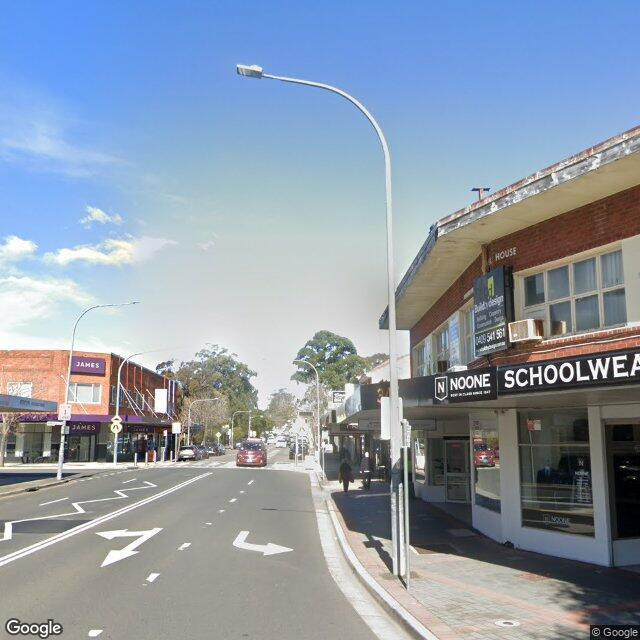steel-pole: (384, 157, 404, 577), (56, 327, 76, 481), (114, 369, 121, 464), (316, 374, 320, 469), (188, 402, 194, 445), (231, 414, 234, 450)
streetlight: (237, 63, 391, 158), (73, 301, 141, 327), (118, 352, 144, 369), (288, 360, 318, 374), (193, 397, 221, 402), (232, 410, 252, 415)
